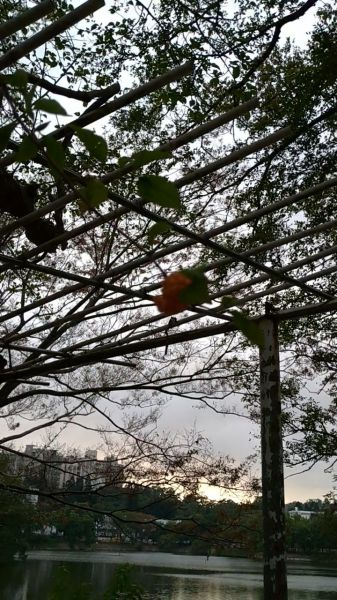eggs: (151, 264, 202, 321)
